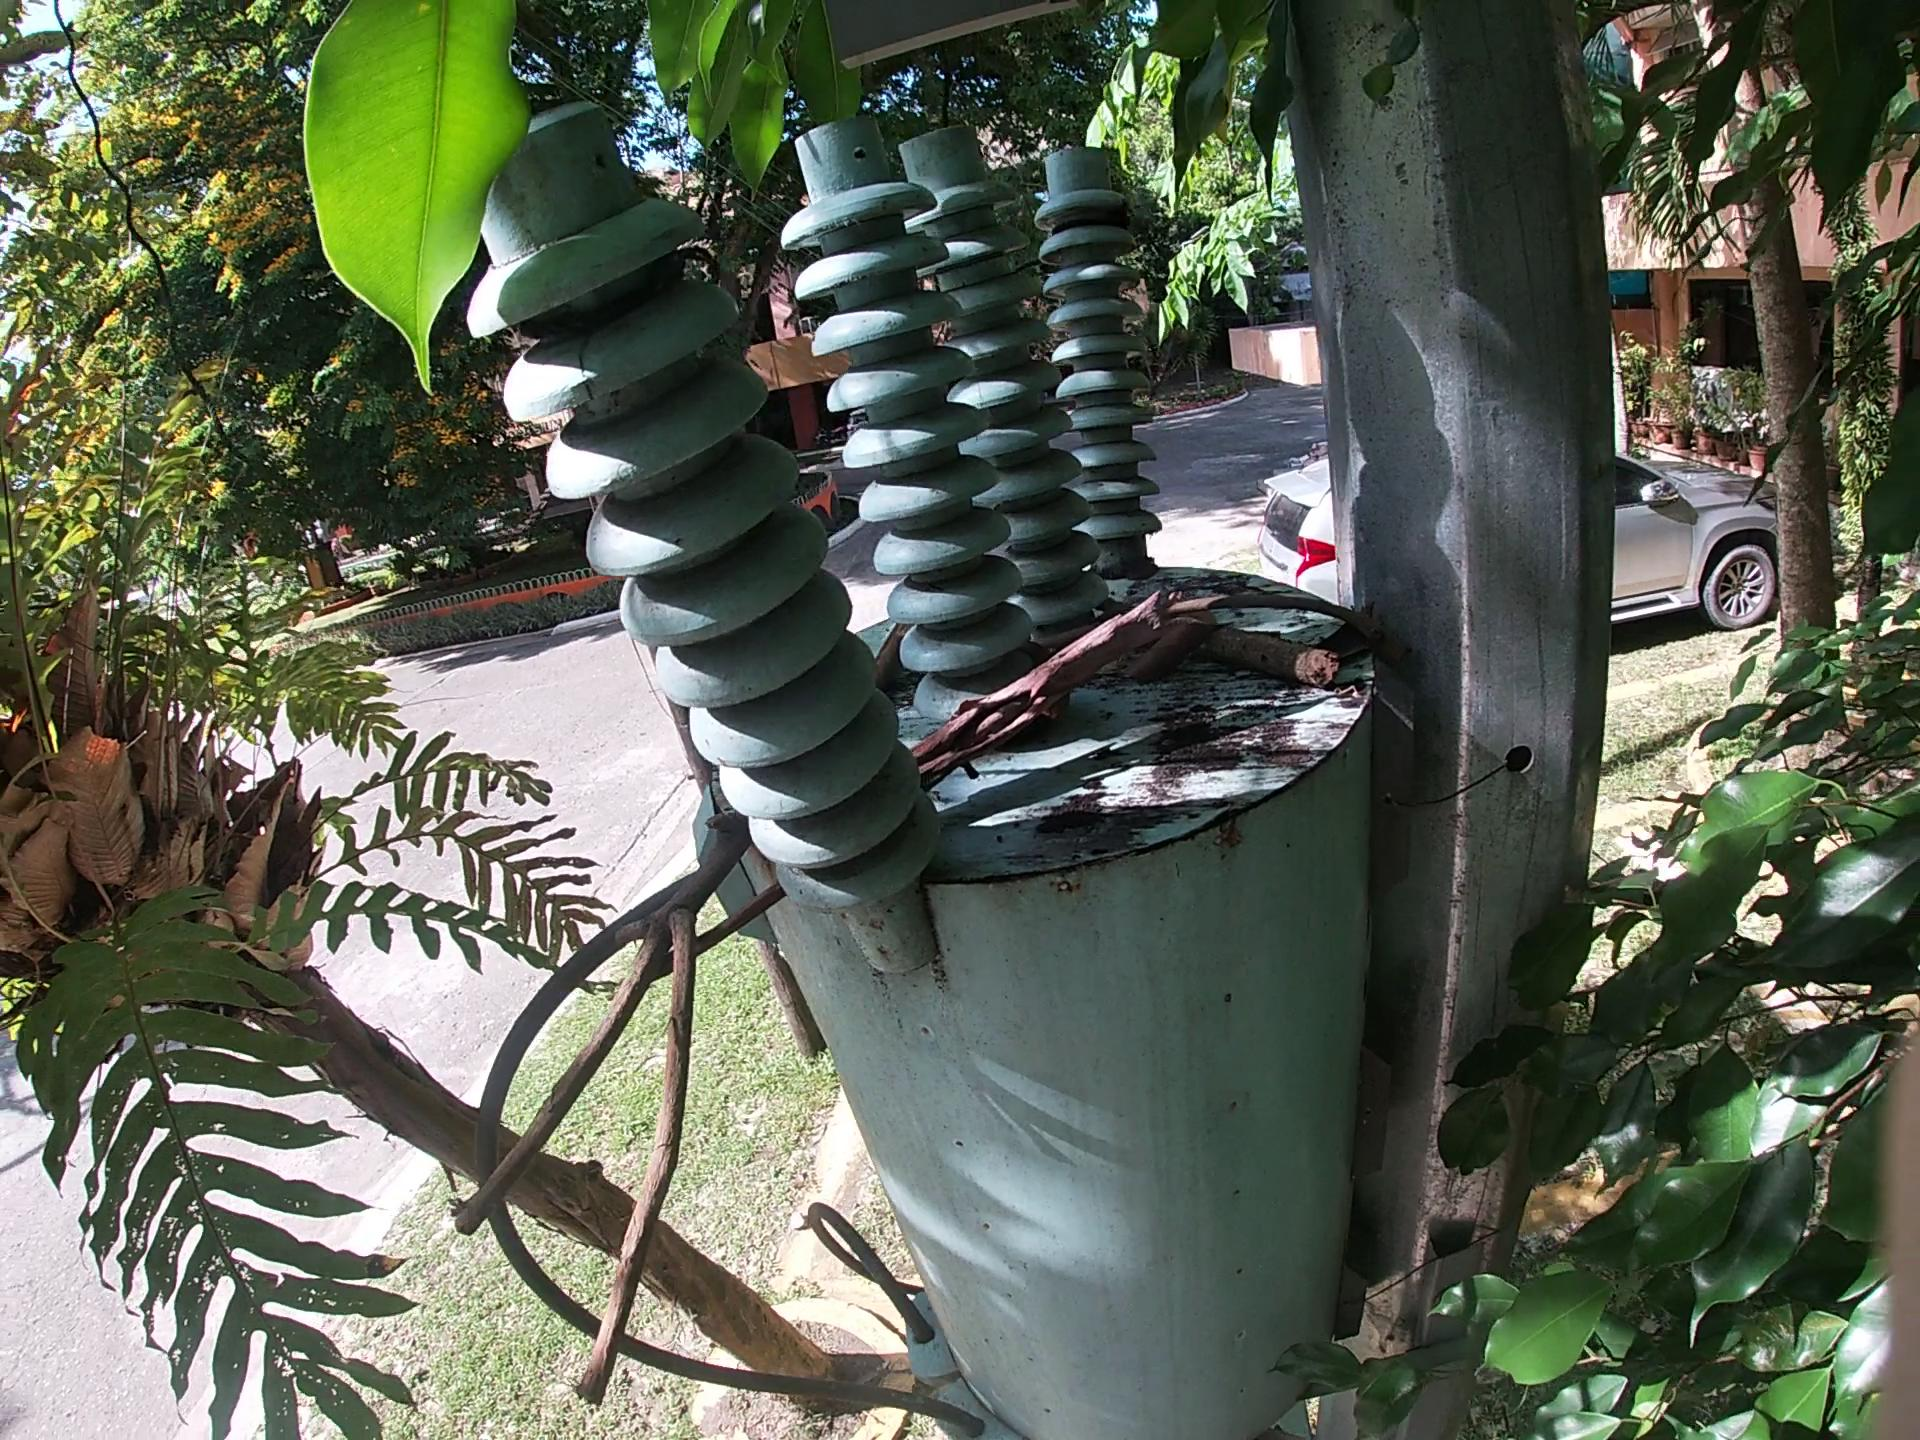leaf: (1327, 601, 1392, 656), (1129, 629, 1190, 672), (1181, 591, 1240, 625)
tree branch: (434, 824, 735, 1405), (921, 579, 1211, 777), (1205, 628, 1361, 700), (659, 895, 785, 985), (1172, 596, 1392, 628), (871, 622, 909, 697), (1030, 623, 1101, 658)
